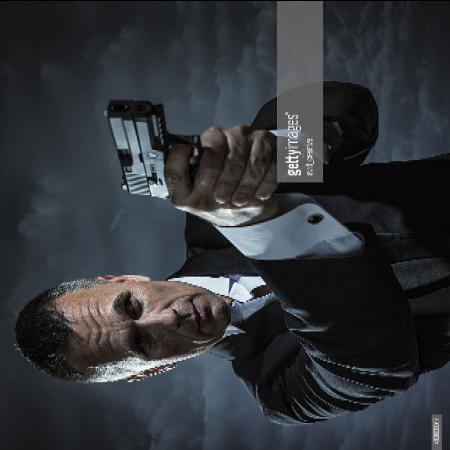Pistol: (106, 97, 173, 204)
